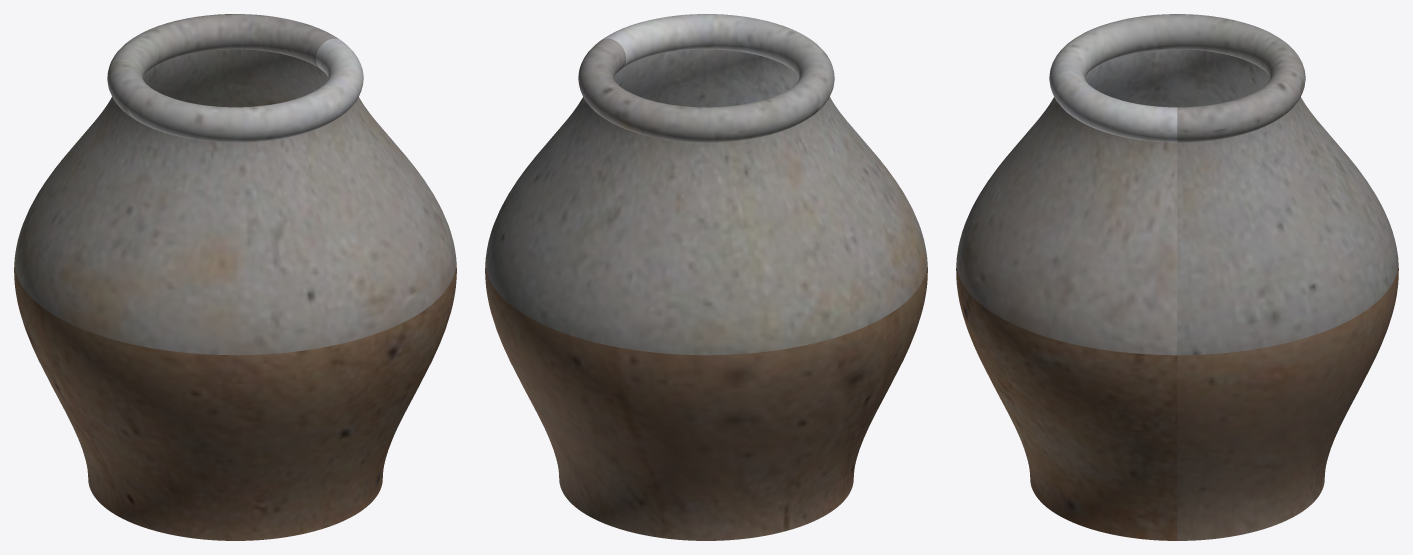
File: guang.glb
3 renders of one model, left to right at view 1: azimuth 30°, elevation 25°; view 2: azimuth 150°, elevation 25°; view 3: azimuth 270°, elevation 25°, orthographic.
Bounding box in the file's own units: 30.06 × 31.2 × 30.06.
2 materials, 2 textured.
